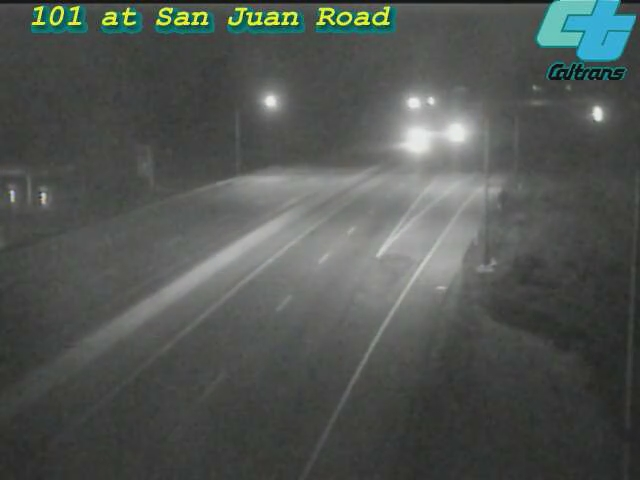vehicle: (388, 116, 438, 166), (430, 108, 480, 158), (574, 89, 624, 139)
